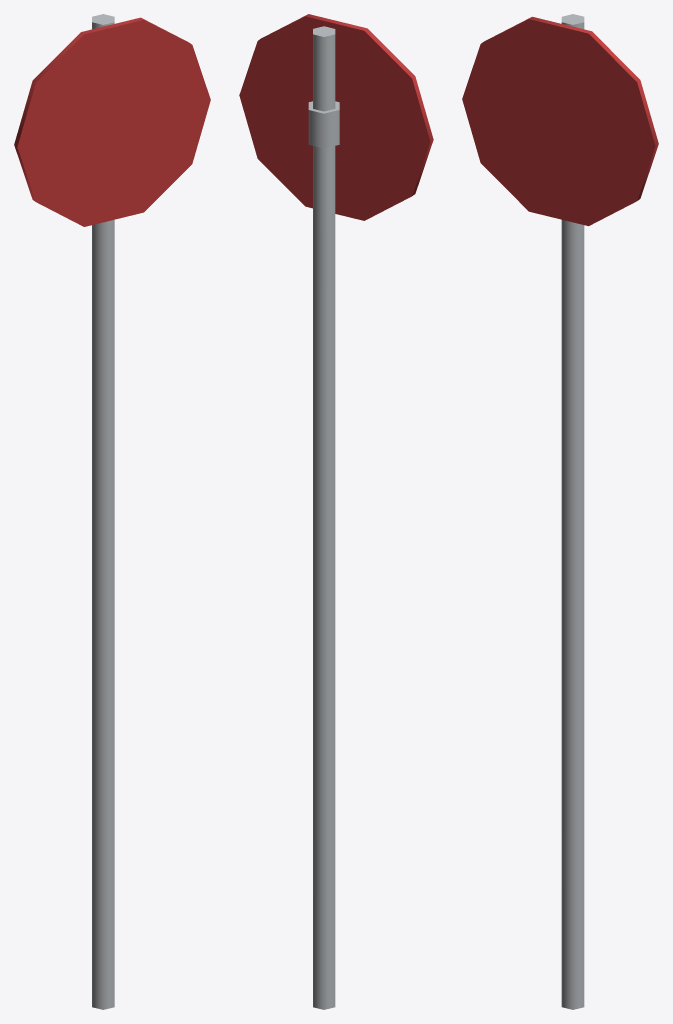
The model's file is SM_roadsign_007.fbx.
The picture shows the model from 3 angles, left to right: view 1: azimuth 30°, elevation 25°; view 2: azimuth 150°, elevation 25°; view 3: azimuth 330°, elevation 25°; orthographic projection.
Visible parts, largest first — view 1: Cylinder064; view 2: Cylinder064; view 3: Cylinder064.
Part boxes in pixels (bbox=[...]): Cylinder064: bbox=[14, 14, 210, 1009]; Cylinder064: bbox=[239, 14, 433, 1009]; Cylinder064: bbox=[462, 14, 658, 1009].
Size of the model in its own units: 25.3 by 123 by 4.61.
